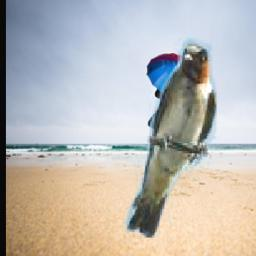Swallow: (124, 39, 216, 239)
